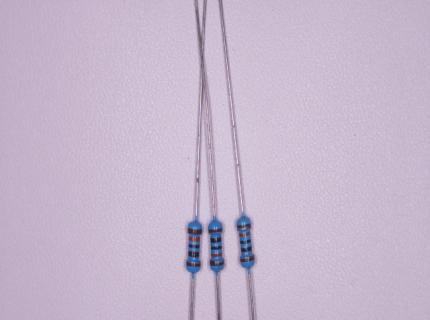Black band: (240, 245, 251, 252), (188, 251, 199, 258), (211, 237, 221, 243), (189, 244, 200, 249), (240, 239, 251, 244), (211, 246, 222, 249)
Brown band: (210, 260, 224, 267), (241, 255, 254, 262), (188, 228, 202, 234), (187, 262, 201, 267), (237, 223, 251, 228), (209, 228, 221, 233)
Orange band: (189, 237, 200, 242), (211, 252, 222, 257), (239, 231, 250, 236)
